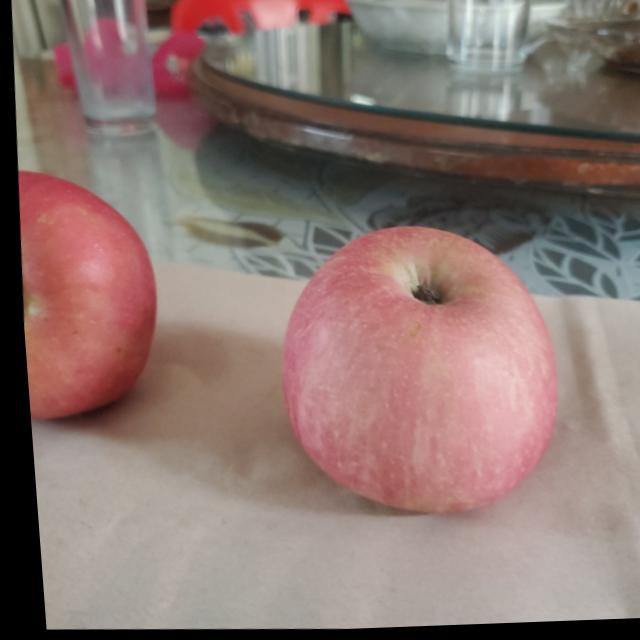apple: (264, 223, 568, 527), (10, 164, 161, 420)
